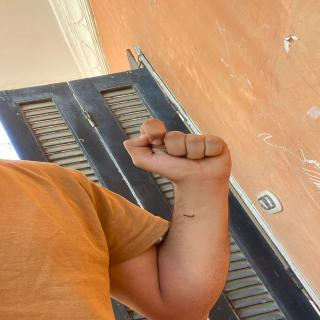FAA: (114, 116, 245, 184)
